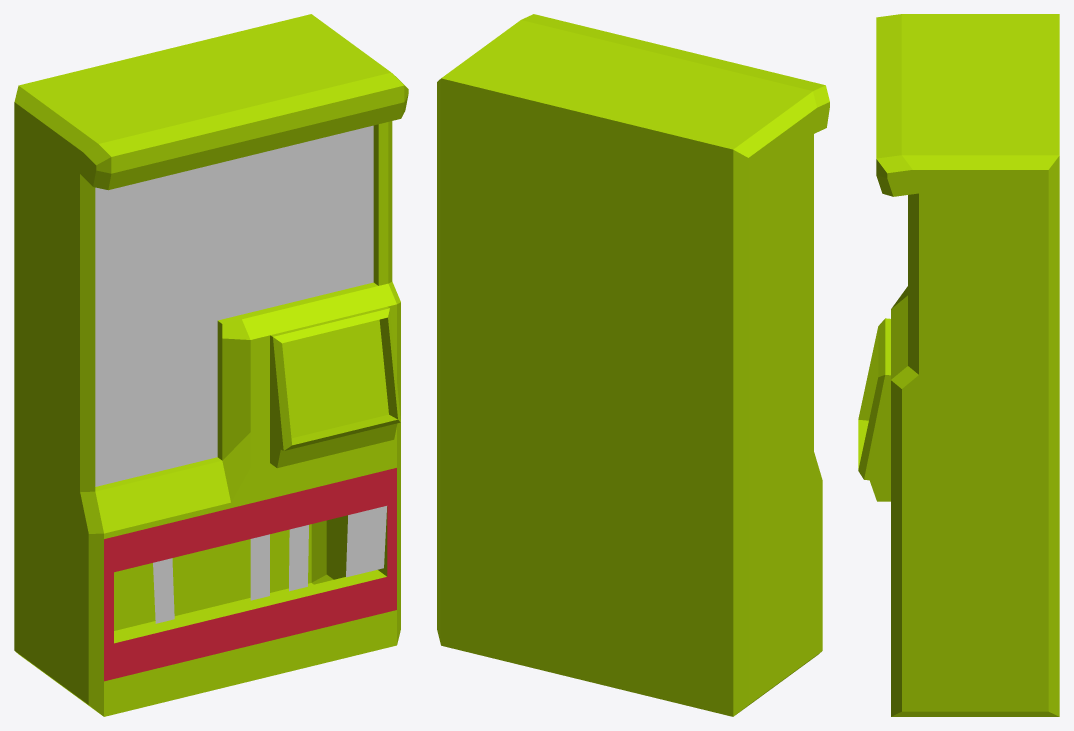
The model's file is vendingMachine_2.glb.
3 views of the same model, side by side, from view 1: azimuth 30°, elevation 25°; view 2: azimuth 150°, elevation 25°; view 3: azimuth 270°, elevation 25° (orthographic).
Parts seen in each view (by area): view 1: Cube, screen, clapette; view 2: Cube; view 3: Cube.
Boxes of the visible parts, <box> form: Cube: <box>14,14,408,716</box>; screen: <box>95,125,373,486</box>; clapette: <box>153,506,386,623</box>; Cube: <box>437,14,829,716</box>; Cube: <box>858,14,1059,716</box>.
Size of the model in its own units: 3.67 by 6.39 by 2.08.
